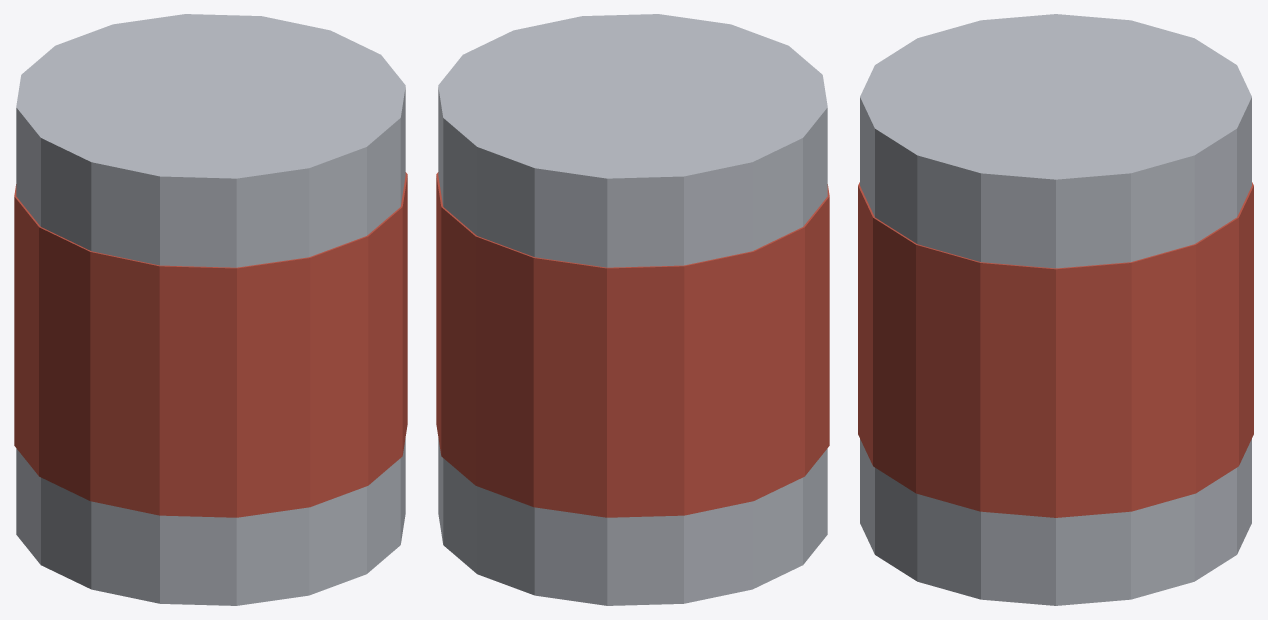
The model's file is can.fbx.
The picture shows the model from 3 angles, left to right: view 1: azimuth 30°, elevation 25°; view 2: azimuth 150°, elevation 25°; view 3: azimuth 270°, elevation 25°; orthographic projection.
Parts seen in each view (by area): view 1: can; view 2: can; view 3: can.
Boxes of the visible parts, x1,y1,x2,y2 form: can: (14, 14, 407, 605); can: (436, 14, 829, 605); can: (858, 14, 1253, 605).
Size of the model in its own units: 0.101 by 0.12 by 0.101.
